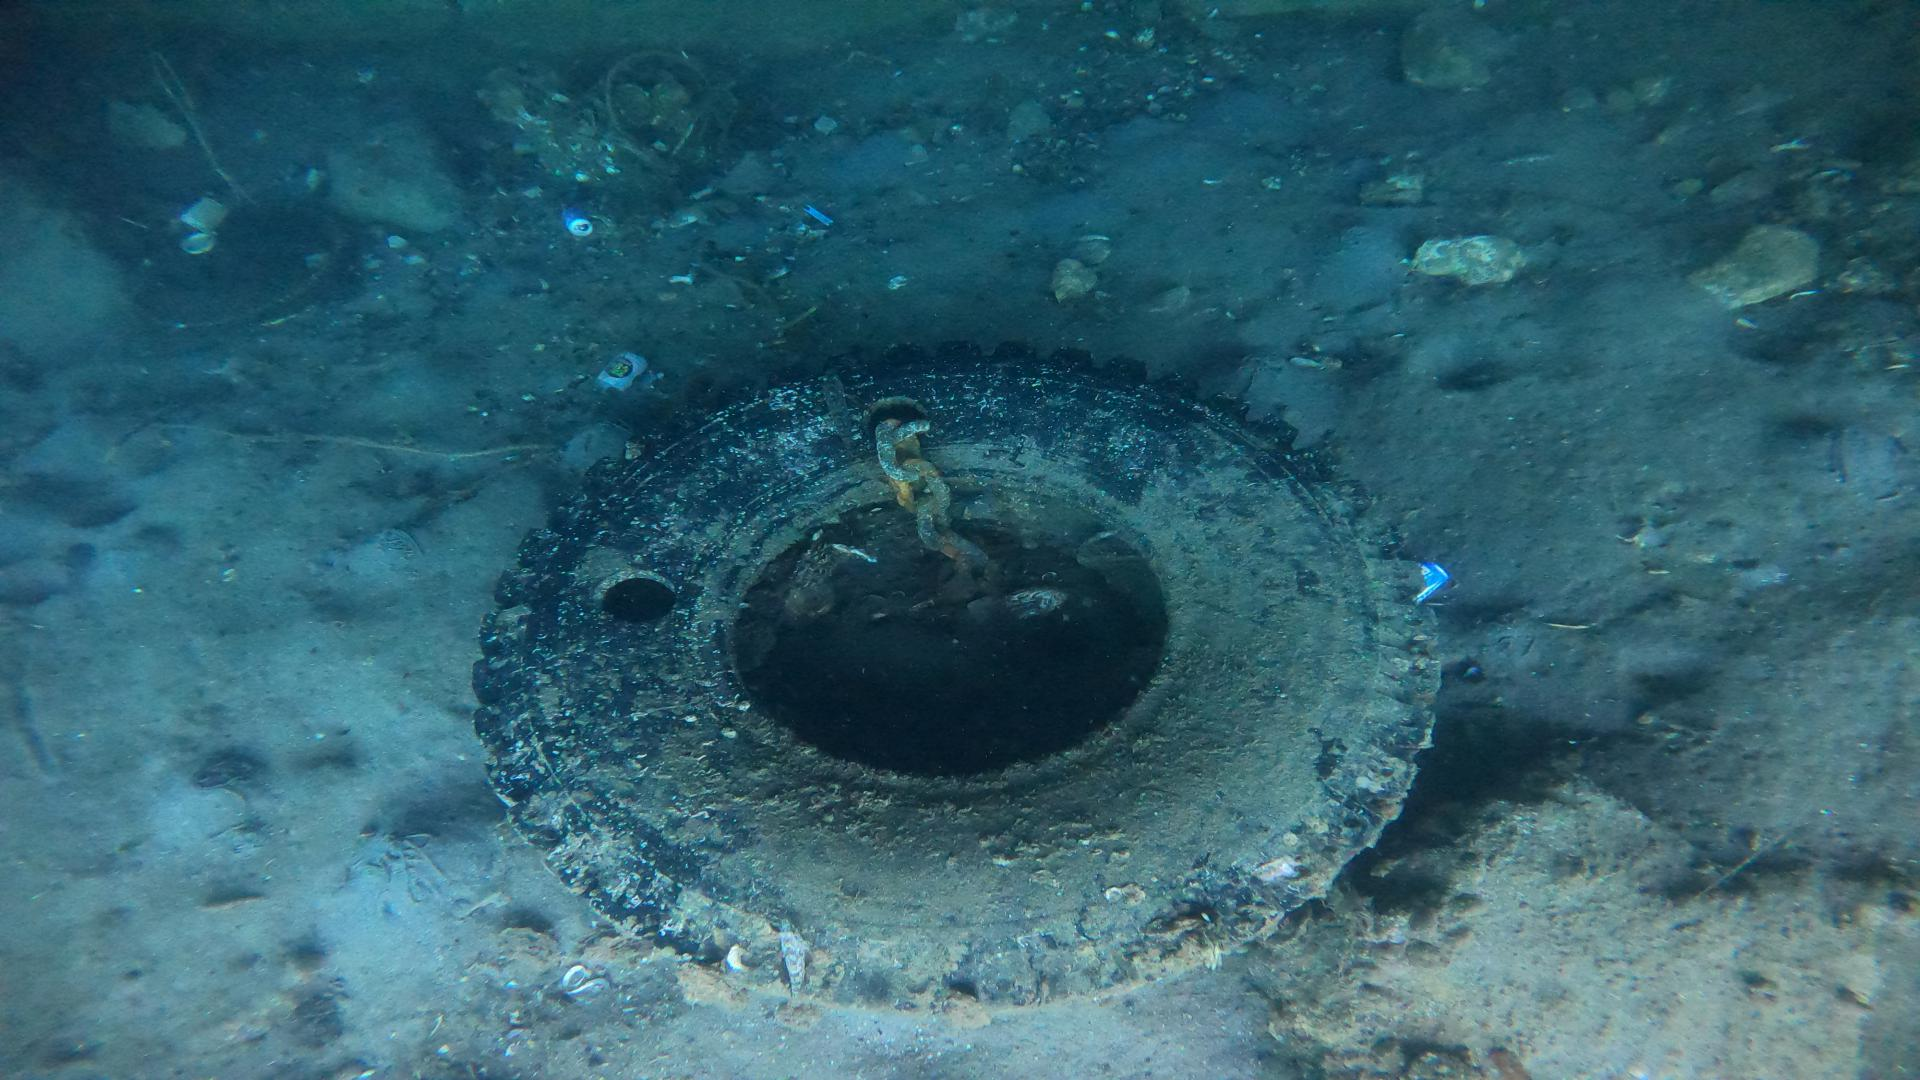tire: (472, 342, 1437, 1013)
